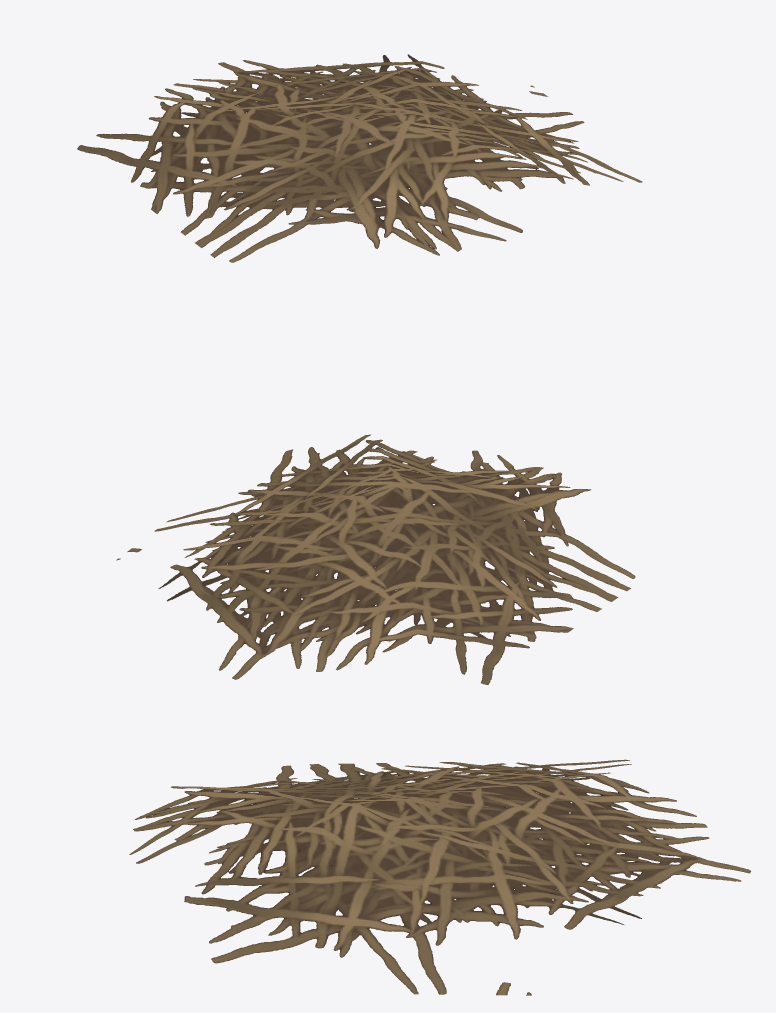
Rendered from hayPatch3.fbx.
3 views of the same model, one above another, from view 1: azimuth 30°, elevation 25°; view 2: azimuth 150°, elevation 25°; view 3: azimuth 270°, elevation 25° (orthographic). The views are drawn at different scales.
Visible parts, largest first — view 1: hayPatch3; view 2: hayPatch3; view 3: hayPatch3.
Part boxes in pixels (box(x1,y1,x2,y2)): hayPatch3: box(77, 54, 642, 262); hayPatch3: box(116, 434, 635, 684); hayPatch3: box(129, 759, 750, 995).
Size of the model in its own units: 0.6082 by 0.1007 by 0.8366.
